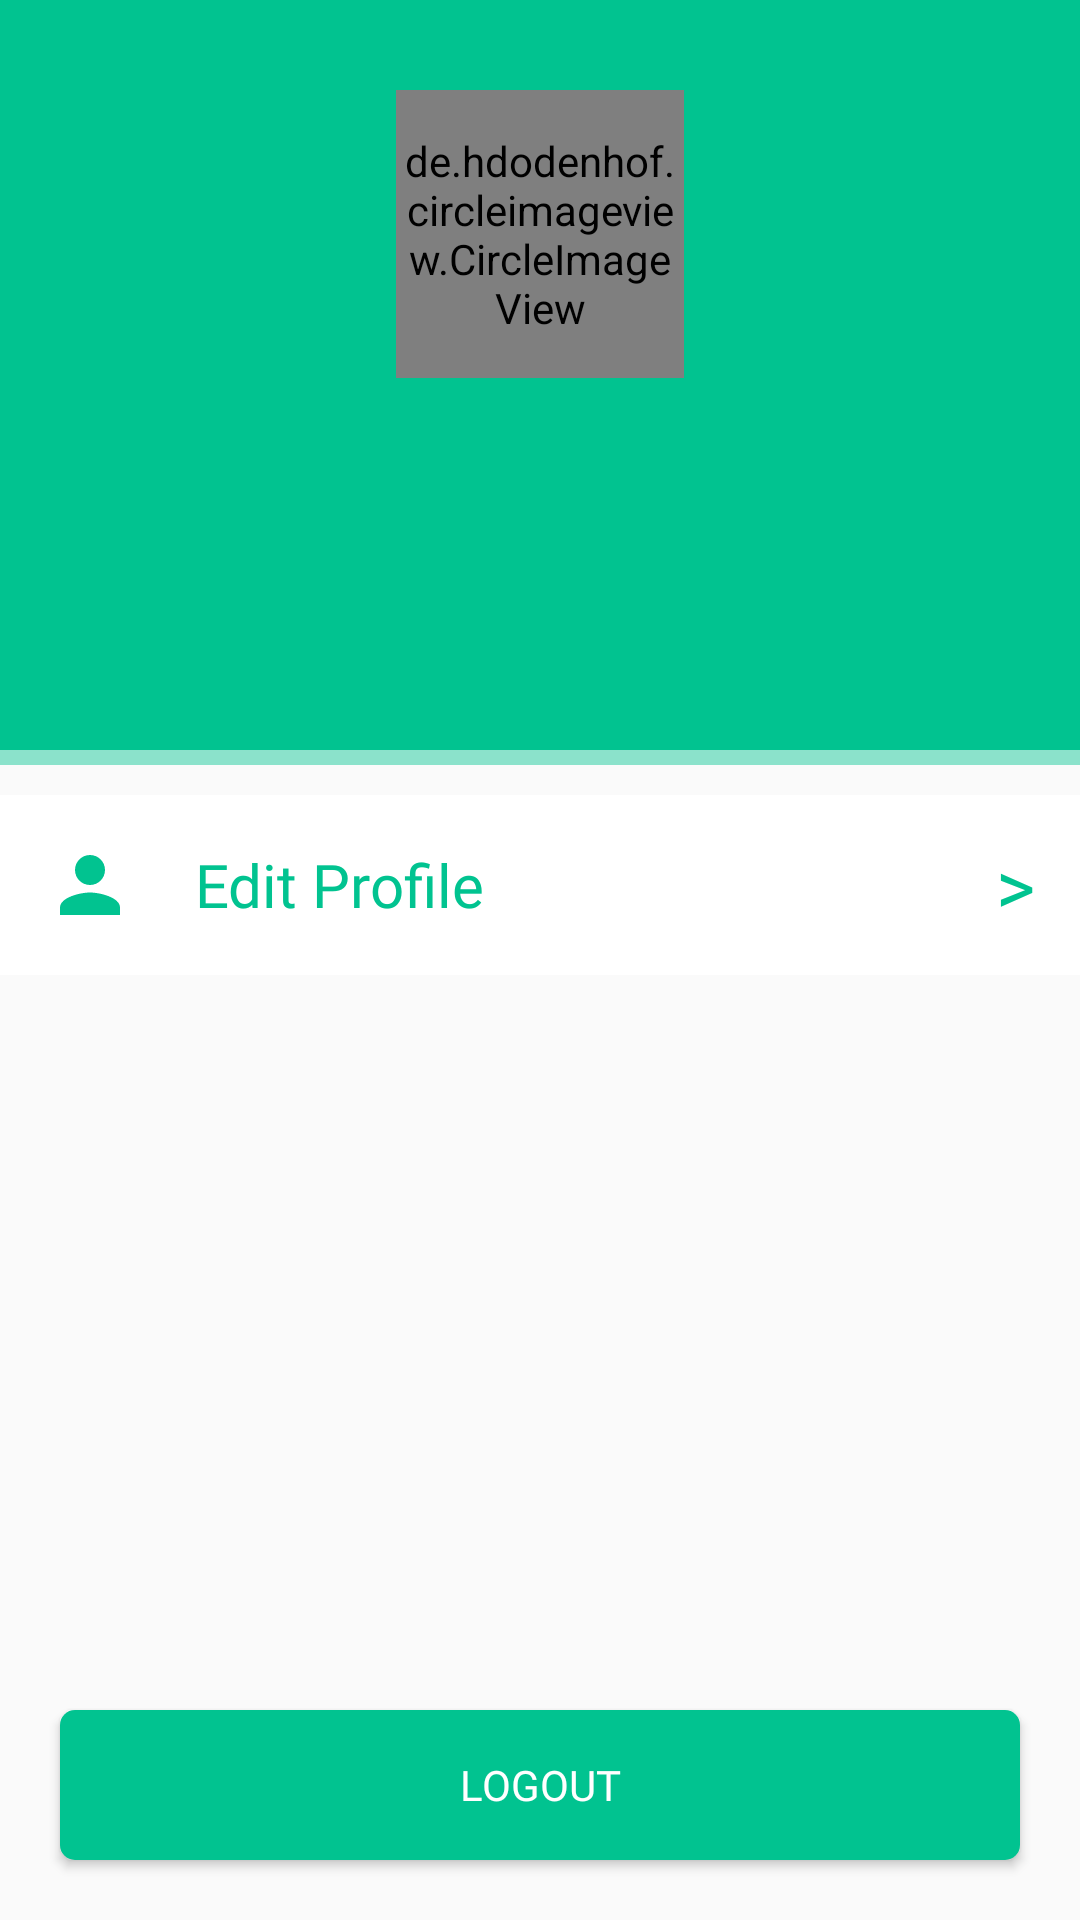

Where to tap for icons on this 1080 × 1920 app screen, as point (x, y):
person: point (90, 885)
